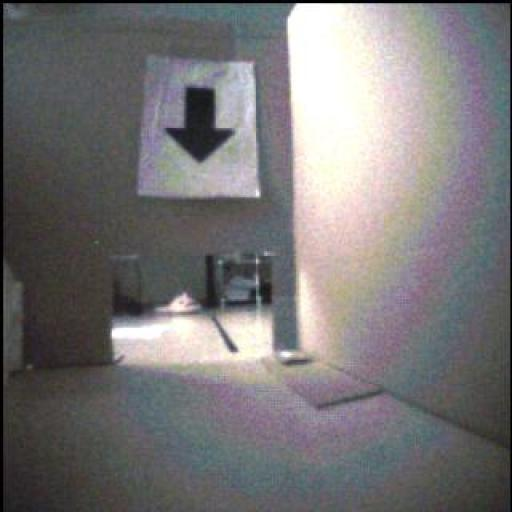arrow: (168, 89, 235, 163)
